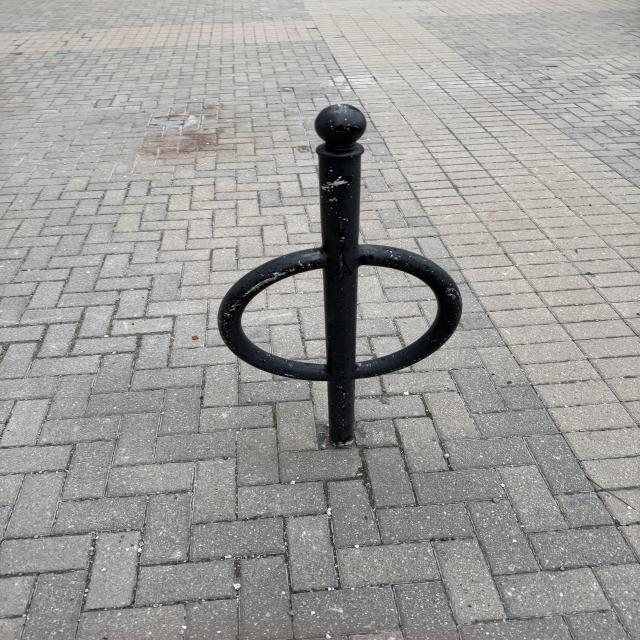Bicycle Rack: (220, 106, 462, 444)
